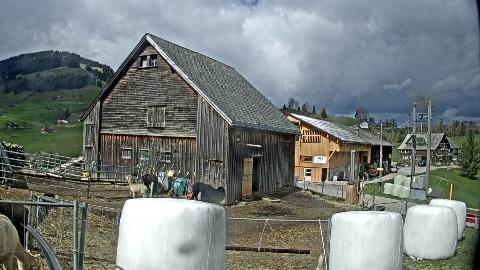car: (389, 166, 397, 172), (418, 162, 426, 166)
sheep: (0, 193, 58, 258), (0, 214, 38, 270), (192, 182, 224, 204), (133, 172, 159, 195), (125, 174, 147, 198)
